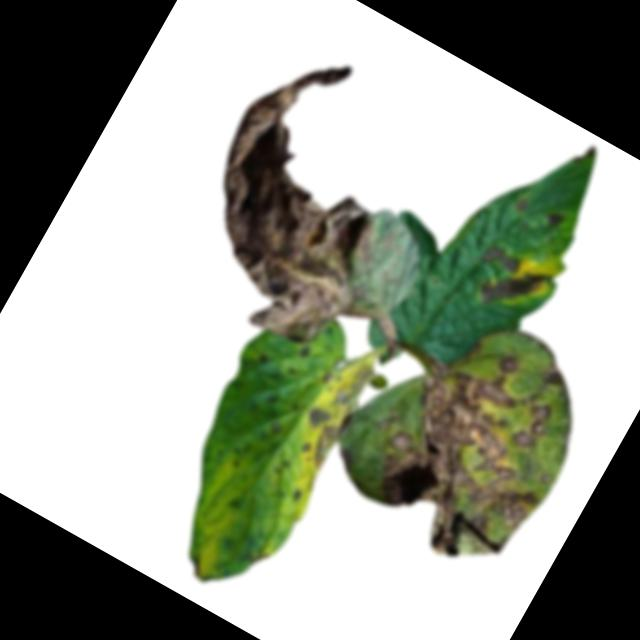Early_blight: (153, 29, 458, 365), (342, 316, 601, 591), (285, 344, 387, 481), (474, 247, 551, 323), (477, 235, 526, 279), (182, 550, 226, 588), (509, 189, 535, 216), (543, 207, 567, 232)
